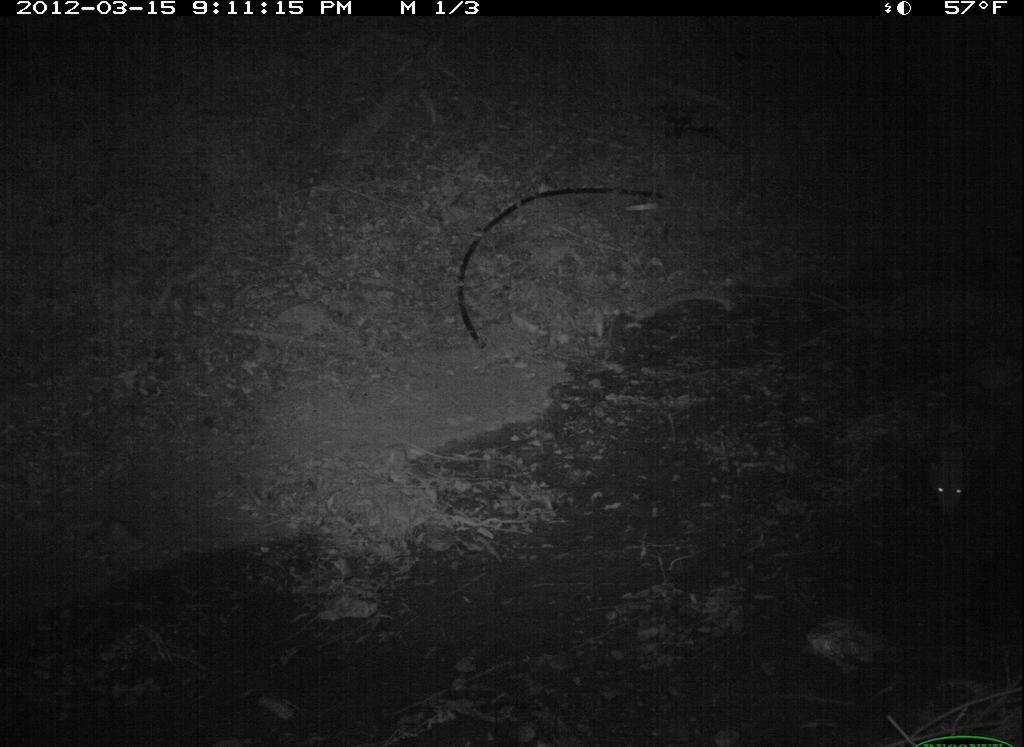opossum: (913, 391, 995, 538)
